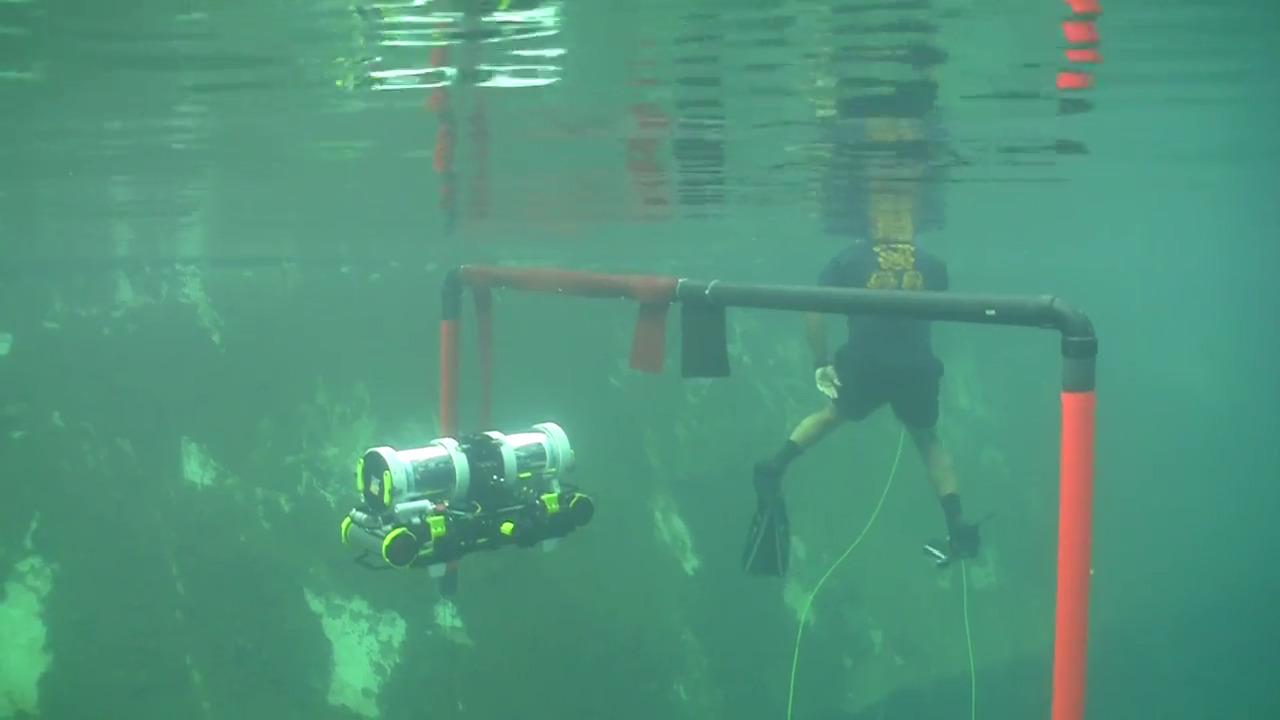gate: (427, 251, 1109, 720)
